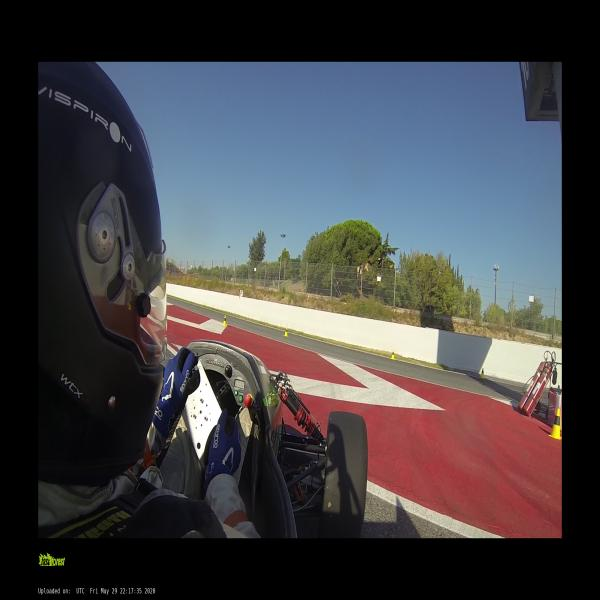yellow_cone: (548, 409, 562, 440), (222, 315, 226, 326), (284, 326, 288, 336), (480, 368, 484, 378), (391, 350, 395, 360)
